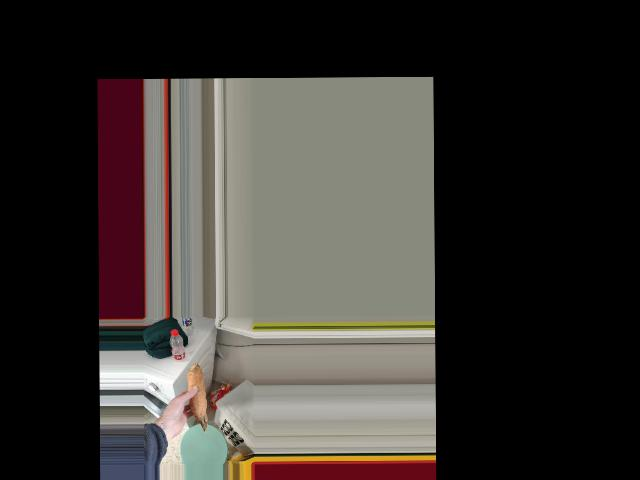sweet_potato: (190, 360, 209, 436)
